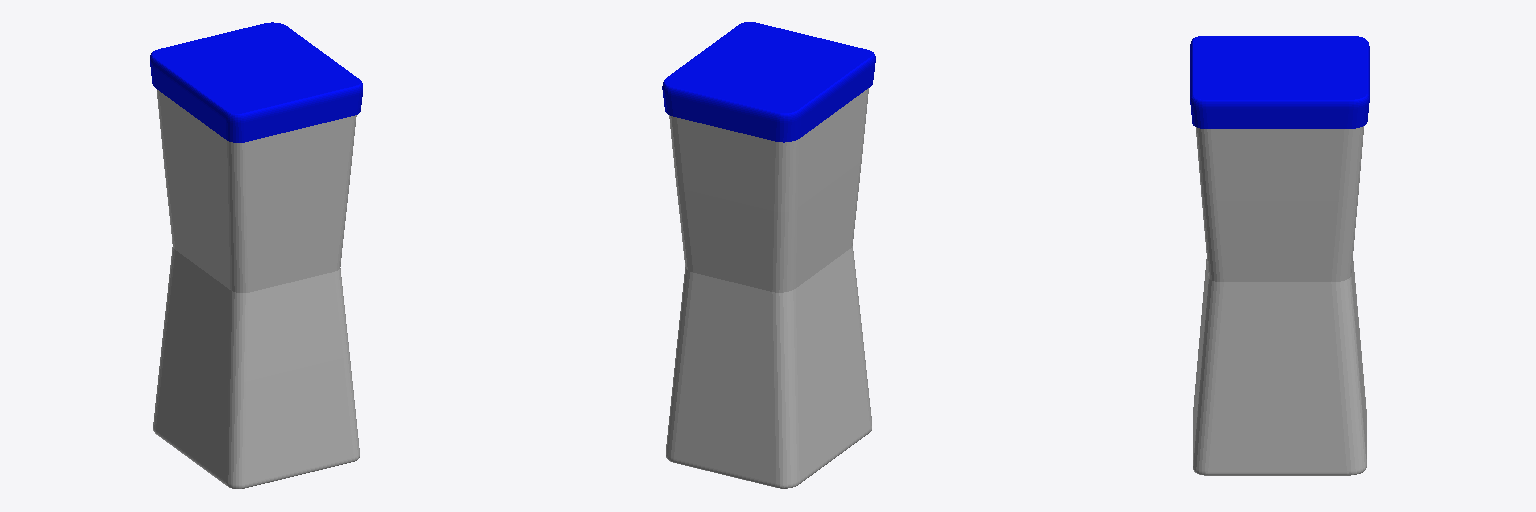
File: conditionerBottle_OBJ.obj
3 views of the same model, side by side, from view 1: azimuth 30°, elevation 25°; view 2: azimuth 150°, elevation 25°; view 3: azimuth 270°, elevation 25° (orthographic).
Visible parts, largest first — view 1: Cube_Cube.001; view 2: Cube_Cube.001; view 3: Cube_Cube.001.
Part boxes in pixels (left/top/right/bottom): Cube_Cube.001: left=150, top=22, right=362, bottom=488; Cube_Cube.001: left=662, top=22, right=875, bottom=488; Cube_Cube.001: left=1190, top=36, right=1369, bottom=475.
Size of the model in its own units: 0.9655 by 2.55 by 1.1.